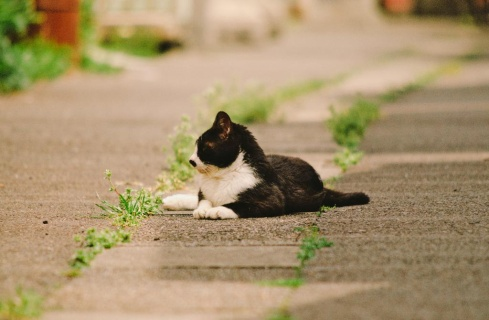Cat: (159, 109, 371, 221)
